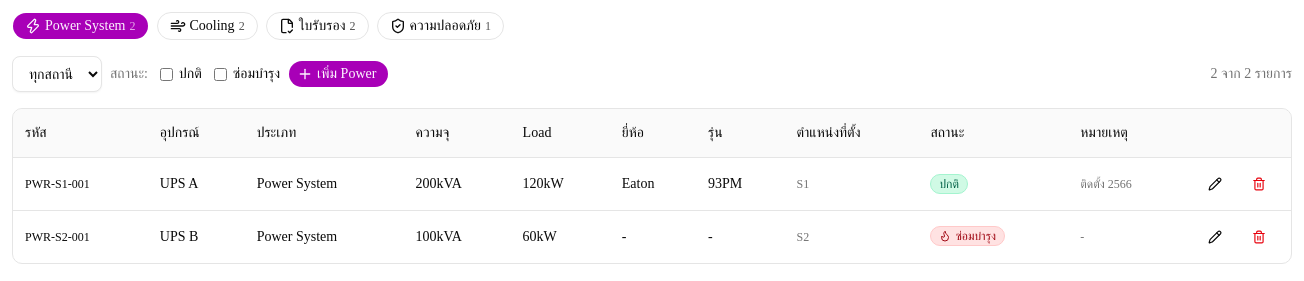
Test case: EngineeringClient — tabs & power filters › shows the BTU number only, derived from btuTotal when btu is not set
Click the button "Cooling 2" at (207, 26), box [156,12,258,40]
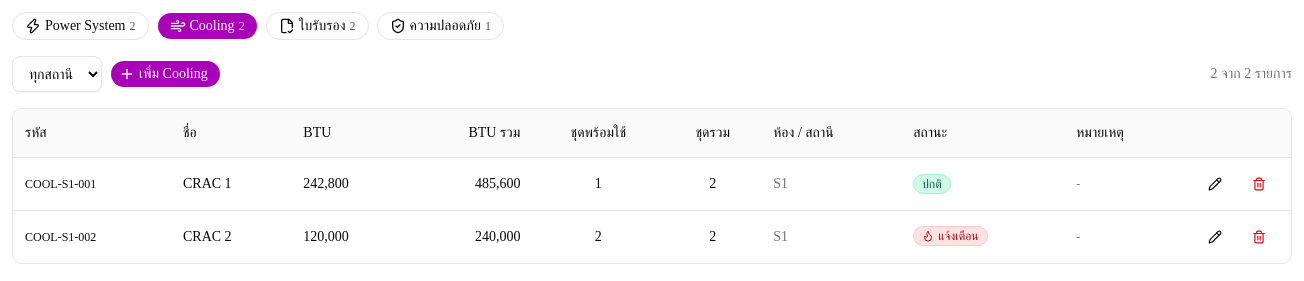
Result: the text "242,800" is shown at [291,157,406,210]
Result: the text "120,000" is shown at [291,210,406,262]
